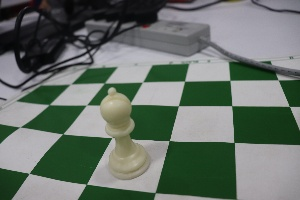white_bishop: (86, 73, 156, 185)
